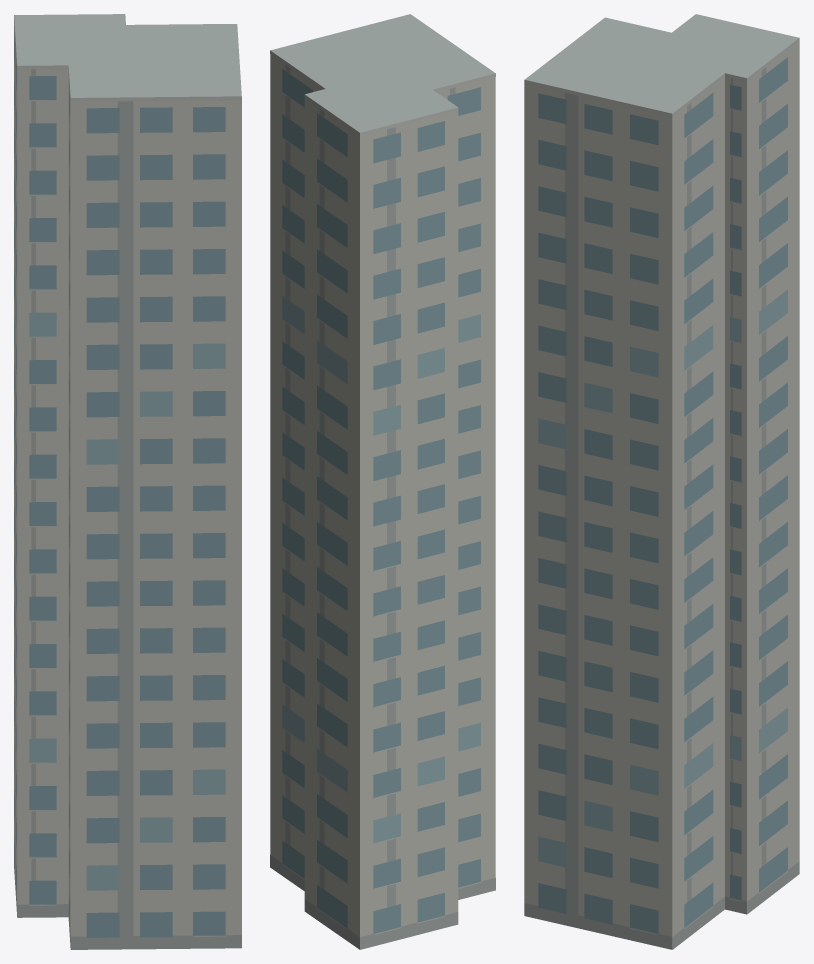
The model's file is survey-upis-32710697.glb.
3 views of the same model, side by side, from view 1: azimuth 30°, elevation 25°; view 2: azimuth 150°, elevation 25°; view 3: azimuth 270°, elevation 25° (orthographic). The views are drawn at different scales.
Parts seen in each view (by area): view 1: survey-upis-32710697.tmp; view 2: survey-upis-32710697.tmp; view 3: survey-upis-32710697.tmp.
Boxes of the visible parts, box(x1,y1,x2,y2) form: survey-upis-32710697.tmp: box(14, 14, 241, 949); survey-upis-32710697.tmp: box(270, 14, 495, 949); survey-upis-32710697.tmp: box(524, 14, 799, 949).
Bounding box in the file's own units: 14.04 × 54.9 × 16.38.
